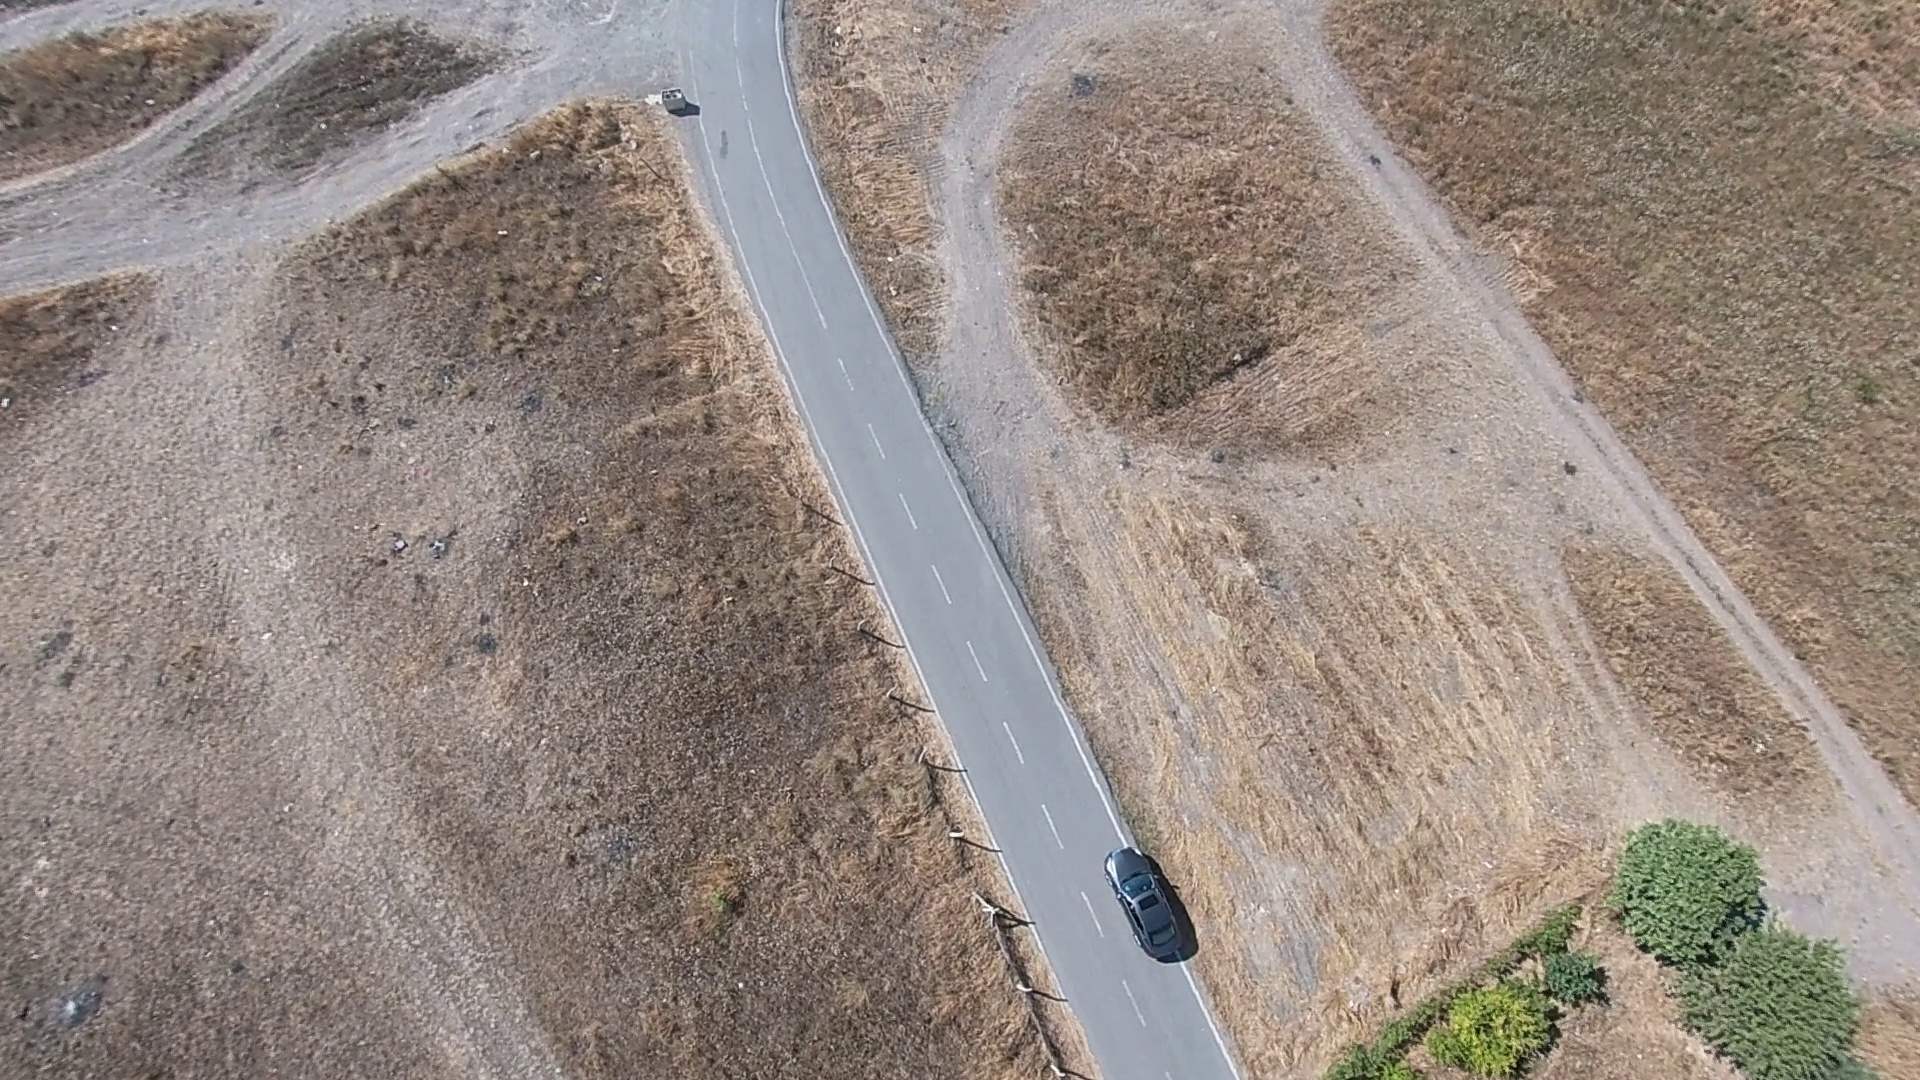araba: (1100, 851, 1197, 961)
